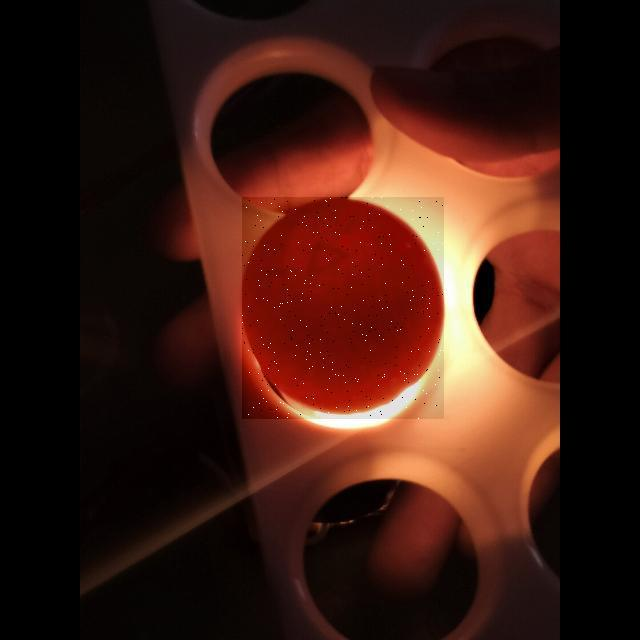Infertile: (242, 197, 444, 419)
